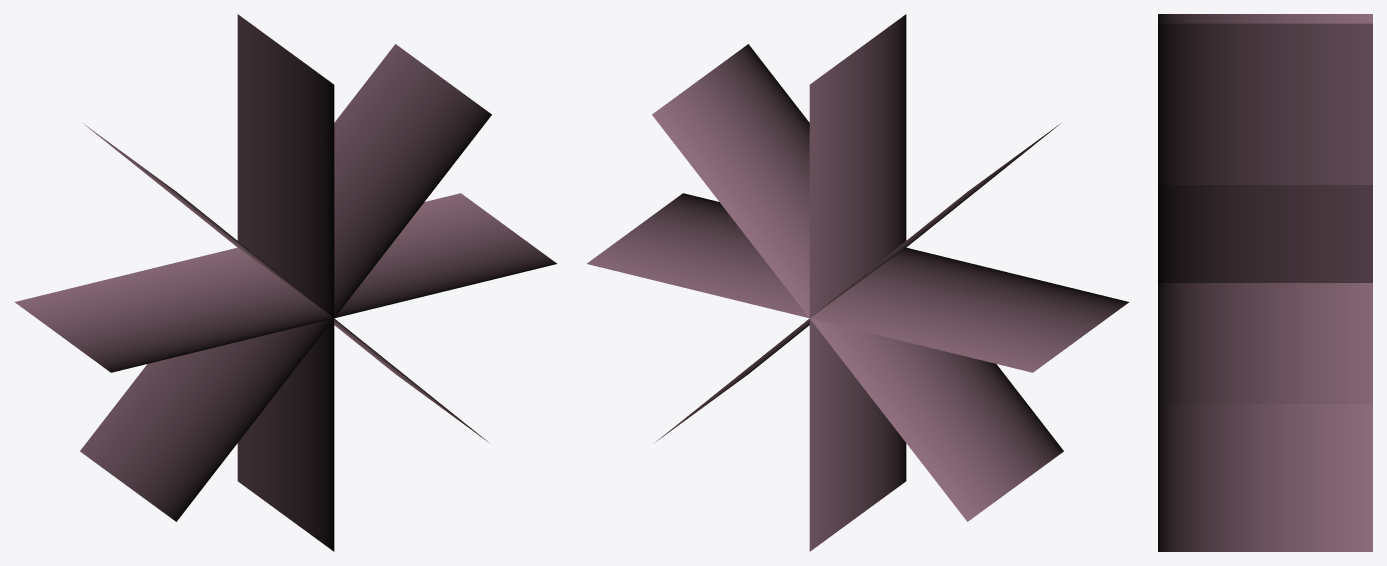
Rendered from SM_Fog_Plane.glb.
3 renders of one model, left to right at view 1: azimuth 30°, elevation 25°; view 2: azimuth 150°, elevation 25°; view 3: azimuth 270°, elevation 25°, orthographic. The views are drawn at different scales.
Visible parts, largest first — view 1: asset_fog_plane; view 2: asset_fog_plane; view 3: asset_fog_plane.
Boxes of the visible parts, x1=… form: asset_fog_plane: x1=15, y1=14, x2=556, y2=551; asset_fog_plane: x1=587, y1=14, x2=1128, y2=551; asset_fog_plane: x1=1158, y1=14, x2=1372, y2=551.
Bounding box in the file's own units: 8 × 8 × 3.
Materials: 1 (1 with a texture image).
